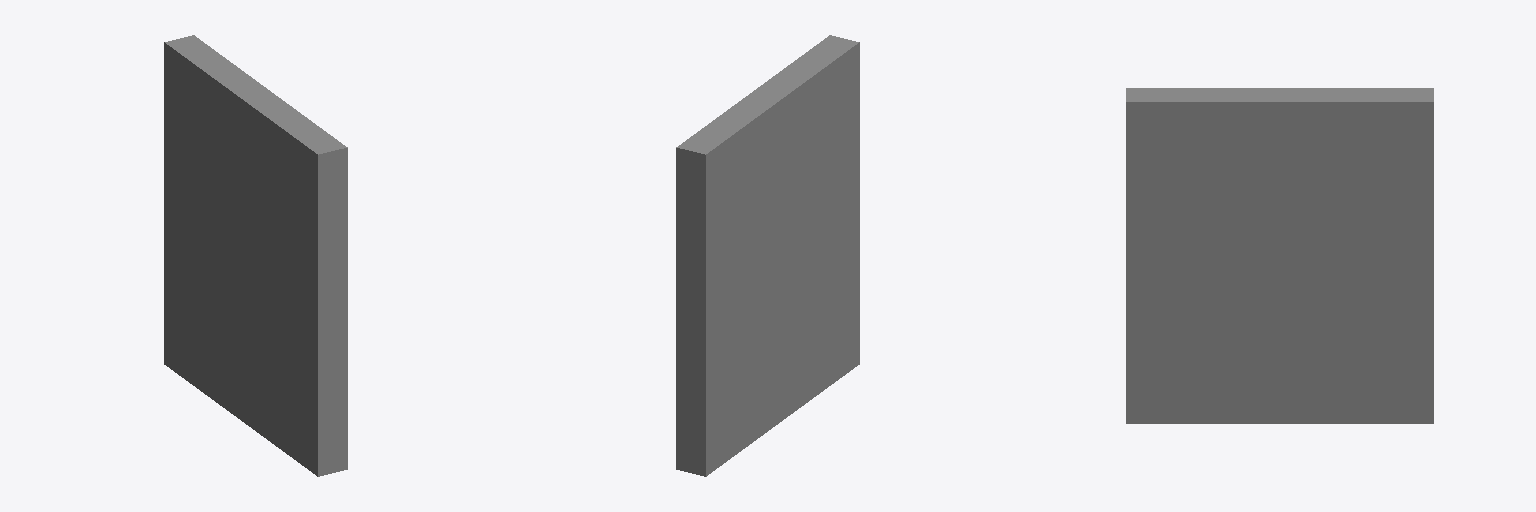
Rendered from Optical_pad.obj.
The picture shows the model from 3 angles: view 1: azimuth 30°, elevation 25°; view 2: azimuth 150°, elevation 25°; view 3: azimuth 270°, elevation 25°; orthographic projection.
Parts seen in each view (by area): view 1: pad; view 2: pad; view 3: pad.
Part boxes in pixels (x1,y1,x2,y2): pad: (164, 35, 347, 476); pad: (676, 35, 859, 476); pad: (1126, 88, 1433, 423).
Size of the model in its own units: 0.0048 by 0.05 by 0.0432.